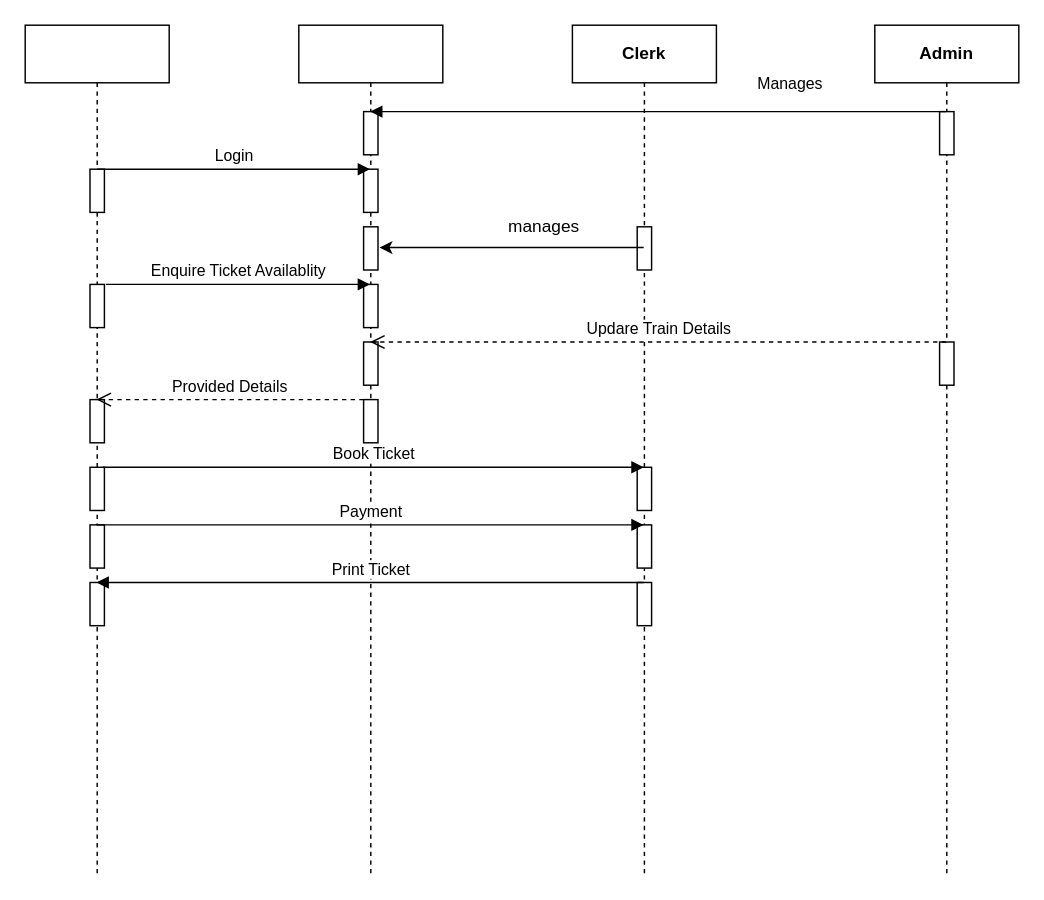
The diagram is 1044 pixels wide and 900 high, and some of its shapes have lost their labels. Each missing label, with the box of its shape:
Passenger: (24, 24, 169, 875)
Website: (297, 24, 443, 875)
